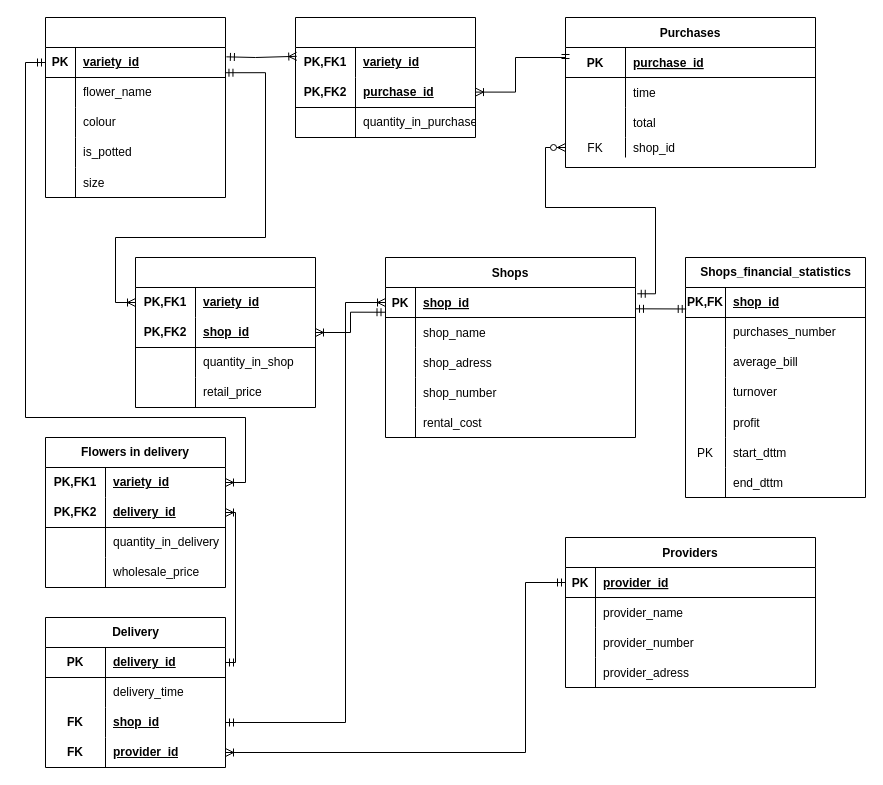
Some shapes in this 883 by 785 pixel diagram are drawn without their labels. The shapes that lost their labels are listed below. From the top down, each one's box as (x1, y1, x2, y2) in pixels, then its label:
(294, 16, 476, 138): Flowers in Purchases
(44, 16, 226, 198): Flowers
(134, 256, 316, 408): Flowers in shops
